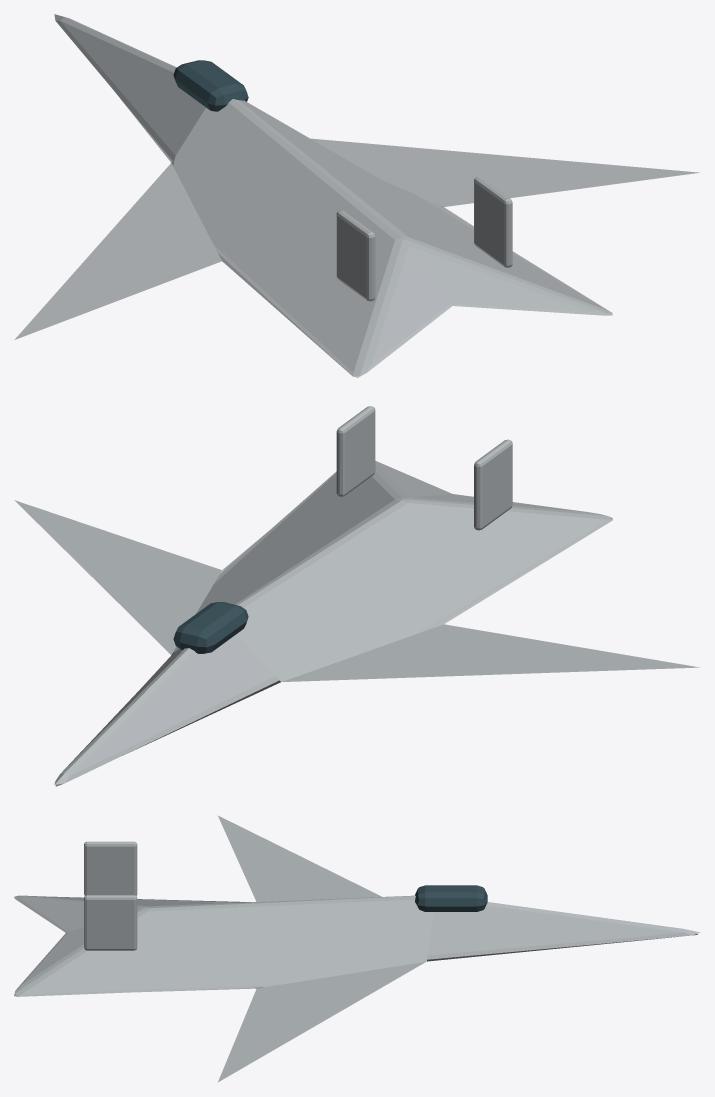
File: nato_eurofighter.glb
3 renders of one model, top to bottom at view 1: azimuth 30°, elevation 25°; view 2: azimuth 150°, elevation 25°; view 3: azimuth 270°, elevation 25°, orthographic. The views are drawn at different scales.
Parts seen in each view (by area): view 1: airframe, left_tail, right_tail, canopy; view 2: airframe, right_tail, left_tail, canopy; view 3: airframe, right_tail, left_tail, canopy.
Part boxes in pixels (x1,y1,x2,y2): airframe: (14, 14, 699, 377); left_tail: (336, 210, 375, 301); right_tail: (474, 177, 512, 267); canopy: (173, 60, 248, 111); airframe: (14, 461, 699, 786); right_tail: (336, 406, 375, 496); left_tail: (474, 439, 512, 530); canopy: (173, 602, 248, 653); airframe: (14, 815, 700, 1082); right_tail: (84, 895, 137, 950); left_tail: (84, 841, 137, 895); canopy: (415, 885, 487, 911).
Size of the model in its own units: 5.98 by 0.8372 by 6.5.
